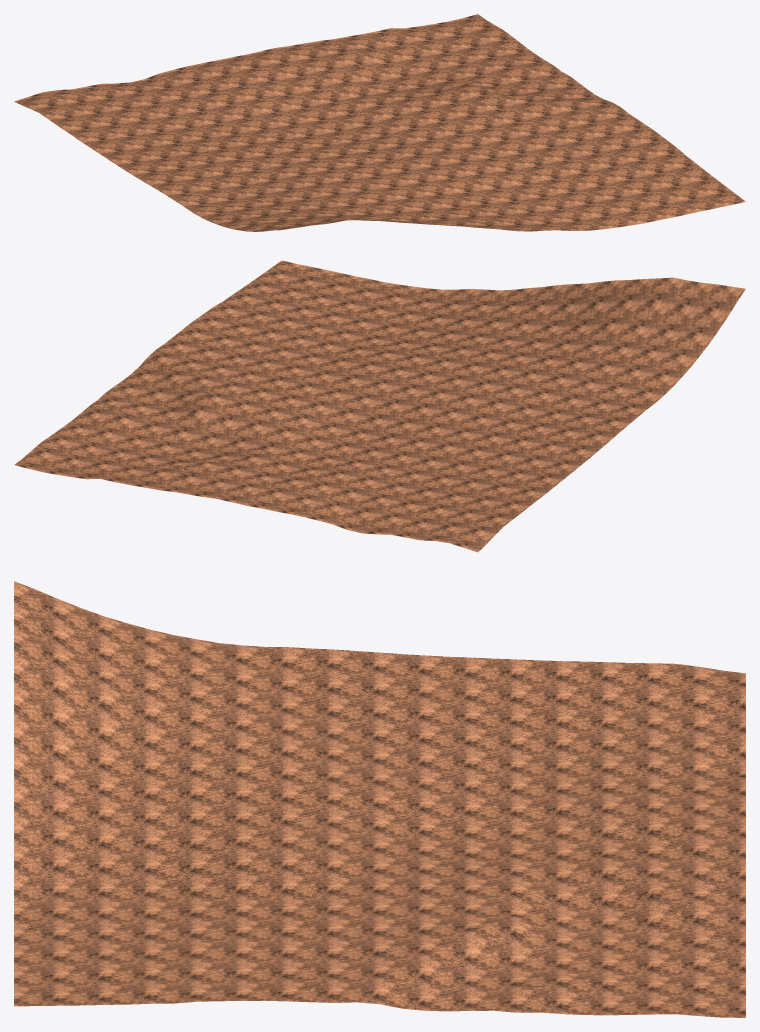
The model's file is terrain_02_14.dae.
3 views of the same model, one above another, from view 1: azimuth 30°, elevation 25°; view 2: azimuth 150°, elevation 25°; view 3: azimuth 270°, elevation 25° (orthographic). The views are drawn at different scales.
Visible parts, largest first — view 1: terrain_02_14-node; view 2: terrain_02_14-node; view 3: terrain_02_14-node.
Part boxes in pixels (x1,y1,x2,y2): terrain_02_14-node: (14,14,745,231); terrain_02_14-node: (14,260,745,552); terrain_02_14-node: (14,581,745,1017).
Size of the model in its own units: 128 by 128 by 24.7.
1 material, 1 textured.
